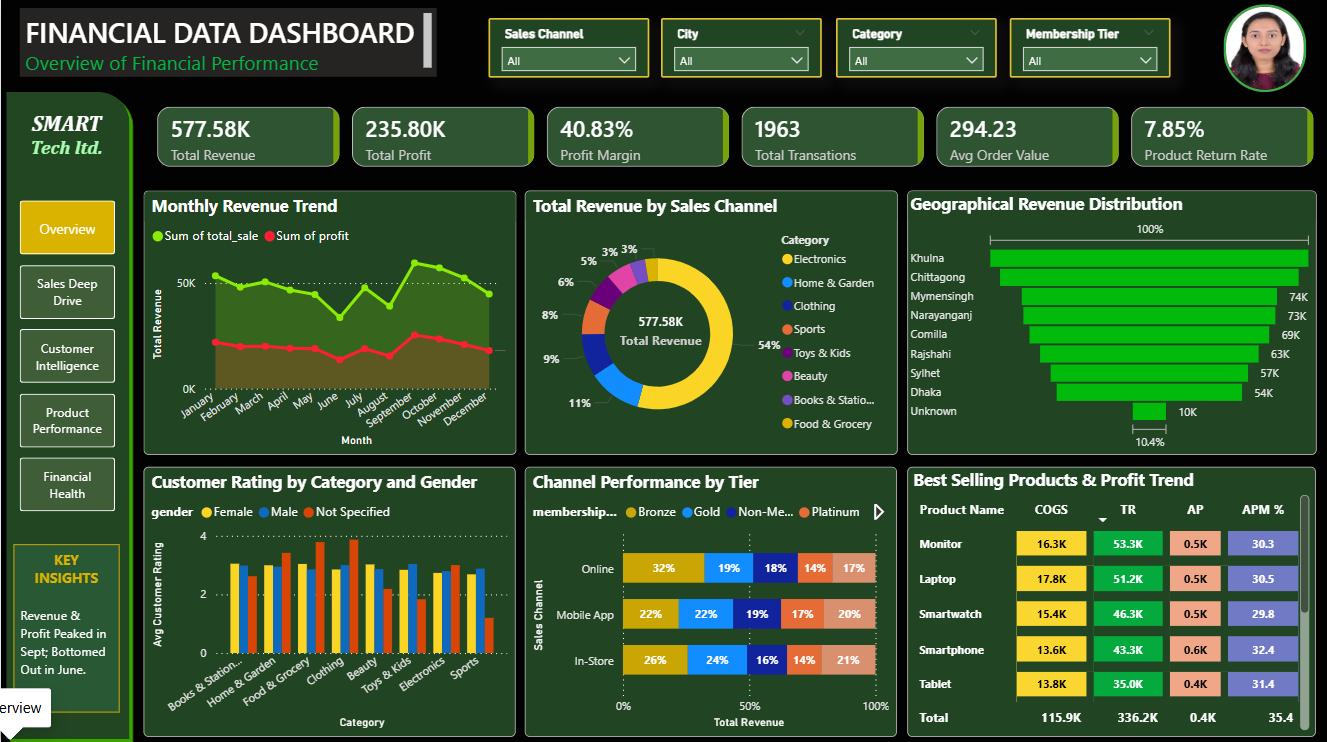

This screenshot's page, from the dashboard's own definition file:
{"tool":"powerbi","page":{"name":"Overview","canvas":[1280,720],"ordinal":0},"visuals":[{"type":"lineChart","title":"Monthly Revenue Trend","fields":{"Y":["Sum(public retail_sales.total_sale)","Sum(public retail_sales.profit)"],"Category":["public retail_sales.sale_date.Variation.Date Hierarchy.Year","public retail_sales.sale_date.Variation.Date Hierarchy.Quarter","public retail_sales.sale_date.Variation.Date Hierarchy.Month"]},"box":[137.5,186.2,360,255],"z":0},{"type":"funnel","title":"Geographical Revenue Distribution","fields":{"Category":["public retail_sales.city"],"Y":["Sum(public retail_sales.total_sale)"]},"box":[875,186.2,395,255],"z":1000},{"type":"donutChart","title":"Total Revenue by Sales Channel","fields":{"Y":["Sum(public retail_sales.total_sale)"],"Category":["public retail_sales.category"]},"box":[505,186.2,360,255],"z":2000},{"type":"tableEx","title":"Best Selling Products & Profit Trend","fields":{"Values":["public retail_sales.product_name","Sum(public retail_sales.cogs)","Sum(public retail_sales.total_sale)","Avg(public retail_sales.profit)","Avg(public retail_sales.profit_margin_pct)"]},"box":[874.7,452.4,394.5,260.6],"z":3000},{"type":"hundredPercentStackedBarChart","title":"Channel Performance by Tier","fields":{"Series":["public retail_sales.membership_tier"],"Category":["public retail_sales.sales_channel"],"Y":["Sum(public retail_sales.total_sale)"]},"box":[505.5,452.4,359.5,260.6],"z":4000},{"type":"clusteredColumnChart","title":"Customer Rating by Category and Gender","fields":{"Category":["public retail_sales.category"],"Y":["Avg(public retail_sales.customer_rating)"],"Series":["public retail_sales.gender"]},"box":[137.5,452.4,359.5,260.6],"z":5000},{"type":"cardVisual","fields":{"Data":["public retail_sales.Total Revenue","public retail_sales.Total Profit","public retail_sales.Profit Margin","public retail_sales.Total Transations","public retail_sales.Avg Order Value","public retail_sales.Product Return Rate %"]},"box":[138.8,92.5,1141.2,82.5],"z":6000},{"type":"textbox","box":[17.5,10,402.5,66.2],"z":7000},{"type":"cardVisual","fields":{"Data":["public retail_sales.Total Revenue"]},"box":[559.8,269,154.4,105],"z":8000},{"type":"shape","box":[0,85.7,129.1,634.6],"z":9000},{"type":"textbox","box":[8.4,103.8,109.8,60.3],"z":10000},{"type":"slicer","fields":{"Values":["public retail_sales.sales_channel"]},"box":[470,18.8,155,57.5],"z":11000},{"type":"image","box":[1179.9,6,79.6,85],"z":12000},{"type":"slicer","fields":{"Values":["public retail_sales.city"]},"box":[637.5,18.8,155,57.5],"z":13000},{"type":"slicer","fields":{"Values":["public retail_sales.category"]},"box":[806.2,18.8,155,57.5],"z":14000},{"type":"slicer","fields":{"Values":["public retail_sales.membership_tier"]},"box":[973.8,18.8,155,57.5],"z":15000},{"type":"pageNavigator","box":[17.5,195,92.5,300],"z":16000},{"type":"textbox","box":[12.5,527.5,102.5,162.5],"z":17000}]}

Visuals, with their boxes in screenshot pixels (x1, y1, x2, y2), scaled from the page's 1280x720 canvas onto the 1327x742 screenshot:
"Monthly Revenue Trend" lineChart: Rect(143, 192, 516, 455)
"Geographical Revenue Distribution" funnel: Rect(907, 192, 1317, 455)
"Total Revenue by Sales Channel" donutChart: Rect(524, 192, 897, 455)
"Best Selling Products & Profit Trend" tableEx: Rect(907, 466, 1316, 735)
"Channel Performance by Tier" hundredPercentStackedBarChart: Rect(524, 466, 897, 735)
"Customer Rating by Category and Gender" clusteredColumnChart: Rect(143, 466, 515, 735)
cardVisual - public retail_sales.Total Revenue x public retail_sales.Total Profit: Rect(144, 95, 1326, 180)
textbox: Rect(18, 10, 435, 79)
cardVisual - public retail_sales.Total Revenue: Rect(580, 277, 740, 385)
shape: Rect(0, 88, 134, 741)
textbox: Rect(9, 107, 123, 169)
slicer - public retail_sales.sales_channel: Rect(487, 19, 648, 79)
image: Rect(1223, 6, 1306, 94)
slicer - public retail_sales.city: Rect(661, 19, 822, 79)
slicer - public retail_sales.category: Rect(836, 19, 996, 79)
slicer - public retail_sales.membership_tier: Rect(1010, 19, 1170, 79)
pageNavigator: Rect(18, 201, 114, 510)
textbox: Rect(13, 544, 119, 711)
